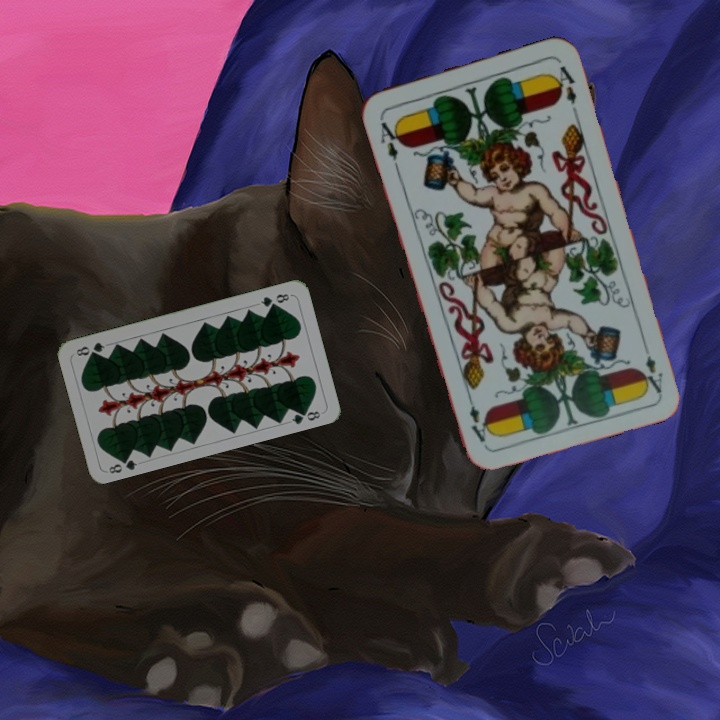EA: (375, 113, 405, 171), (637, 338, 666, 396)
G8: (105, 452, 140, 476), (257, 289, 292, 310)
